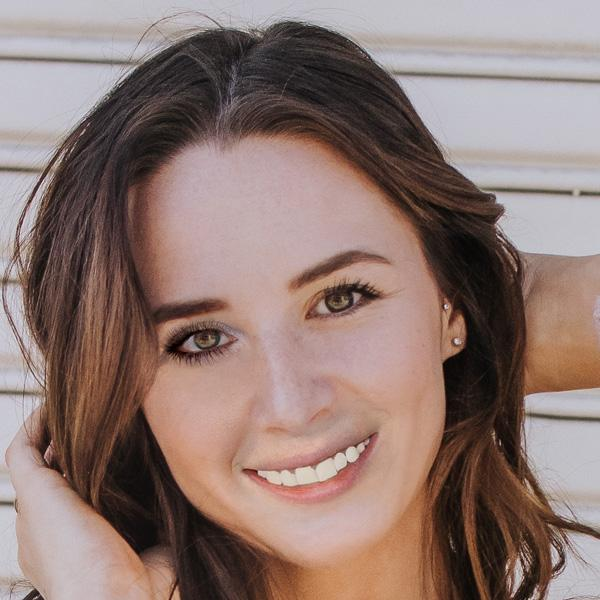Eyes: (294, 269, 389, 335), (155, 312, 245, 375)
